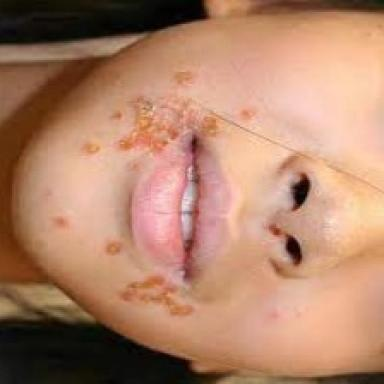Impetigo: (80, 65, 273, 173), (118, 261, 200, 319), (261, 221, 289, 239), (103, 239, 123, 256)
